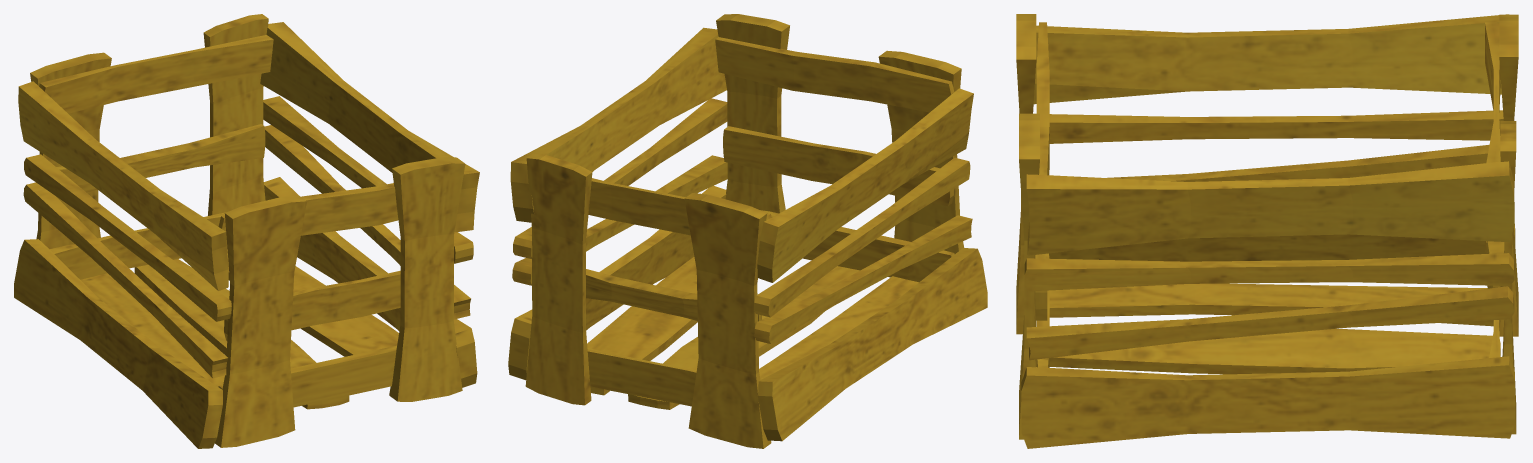
Rendered from objh.glb.
3 renders of one model, left to right at view 1: azimuth 30°, elevation 25°; view 2: azimuth 150°, elevation 25°; view 3: azimuth 270°, elevation 25°, orthographic. The views are drawn at different scales.
Visible parts, largest first — view 1: Cube.001; view 2: Cube.001; view 3: Cube.001.
Part boxes in pixels (x1,y1,x2,y2): Cube.001: (14, 14, 479, 448); Cube.001: (508, 14, 987, 448); Cube.001: (1016, 14, 1518, 448).
Bounding box in the file's own units: 0.3688 × 0.2936 × 0.4573.
Materials: 1 (1 with a texture image).
